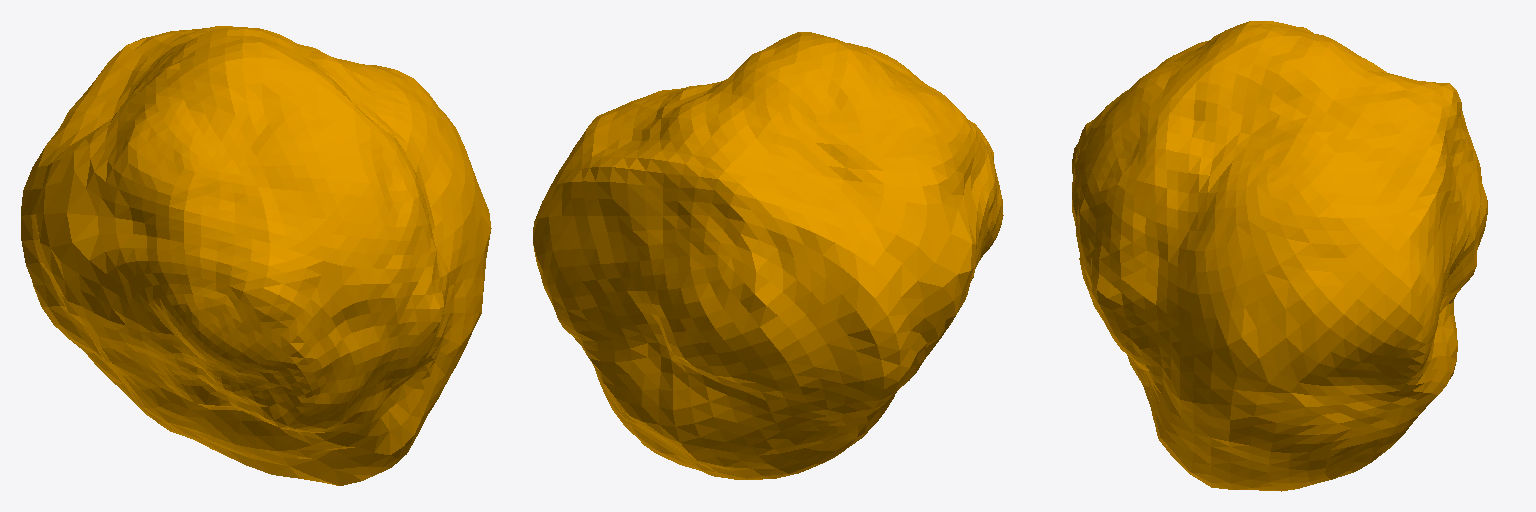
The robot description file, URDF, robot "rock":
<?xml version="1.0" ?>
<robot name="rock">
  <link name="rock">
    <inertial>
      <mass value="0.212"/>
      <origin rpy="0 0 0" xyz="0 0 0"/>
      <inertia ixx="0.000212" ixy="0" ixz="0" iyy="0.000212" iyz="0" izz="0.000212"/>
    </inertial>
    <collision name="rock_collision">
      <origin rpy="0 0 0" xyz="0 0 0"/>
      <geometry>
        <mesh filename="package://rocks/visual/247.dae" scale="1 1 1"/>
      </geometry>
    </collision>
    <visual name="rock_visual">
      <origin rpy="0 0 0" xyz="0 0 0"/>
      <geometry>
        <mesh filename="package://rocks/visual/247.dae" scale="1 1 1"/>
      </geometry>
    </visual>
  </link>
</robot>

--- What the picture shows (computed from the rendered views, not written in the file) ---
The picture shows the robot from 3 angles, left to right: view 1: azimuth 30°, elevation 25°; view 2: azimuth 150°, elevation 25°; view 3: azimuth 270°, elevation 25°; orthographic projection.
Robot: rock — 1 links, 0 joints (none); root link rock; default pose: all joints at 0.
Links seen in each view (by area): view 1: rock; view 2: rock; view 3: rock.
Boxes of the visible links, <box> form: rock: <box>21,26,491,485</box>; rock: <box>533,32,1003,479</box>; rock: <box>1072,21,1487,491</box>.
Size in the robot's own frame: 0.081 by 0.0752 by 0.0838 metres.
Meshes: 1 distinct files referenced, 1 mesh visuals loaded (1 Collada DAE).